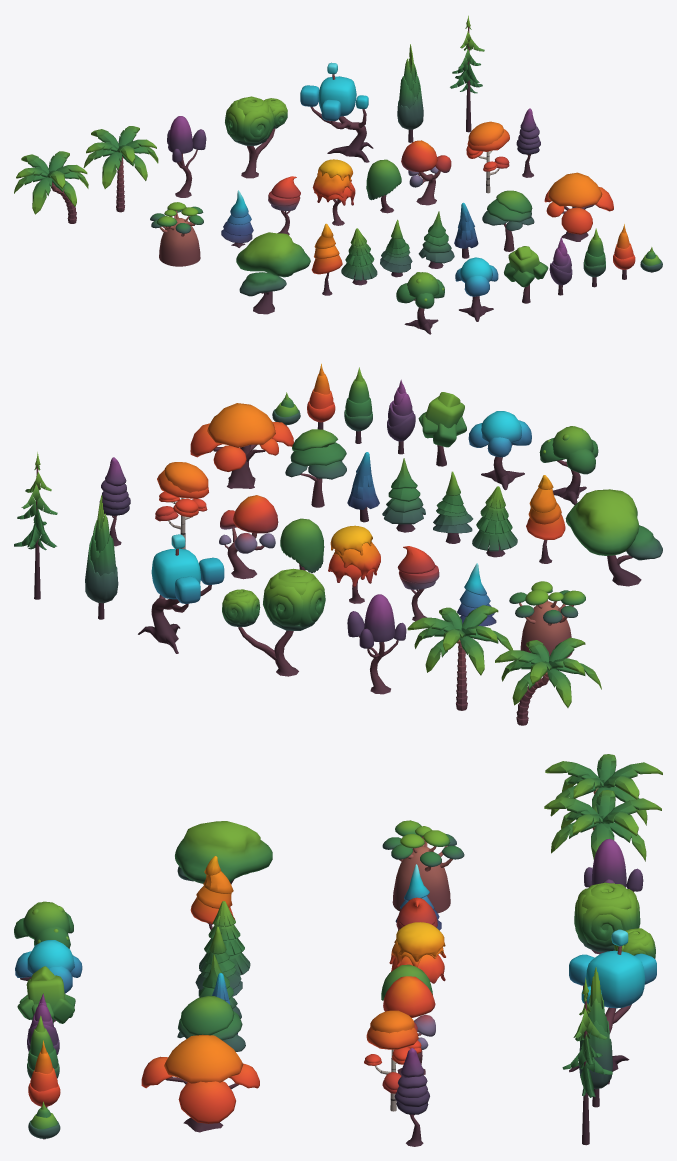
Rendered from stylized-low-poly-trees-pack-01.quads.obj.
3 renders of one model, top to bottom at view 1: azimuth 30°, elevation 25°; view 2: azimuth 150°, elevation 25°; view 3: azimuth 270°, elevation 25°, orthographic. The views are drawn at different scales.
Parts seen in each view (by area): view 1: Tree.026_Base_Material_0, Tree.024_Base_Material_0, Tree.023_Base_Material_0, Tree.006_Base_Material_0, Tree.028_Base_Material_0, Tree.029_Base_Material_0, Tree.027_Base_Material_0, Tree.019_Base_Material_0, Tree.007_Base_Material_0, Tree.017_Base_Material_0, Tree.013_Base_Material_0, Tree.021_Base_Material_0 (+17 smaller); view 2: Tree.023_Base_Material_0, Tree.026_Base_Material_0, Tree.006_Base_Material_0, Tree.024_Base_Material_0, Tree.028_Base_Material_0, Tree.029_Base_Material_0, Tree.027_Base_Material_0, Tree.019_Base_Material_0, Tree.007_Base_Material_0, Tree.021_Base_Material_0, Tree.022_Base_Material_0, Tree.012_Base_Material_0 (+18 smaller); view 3: Tree.006_Base_Material_0, Tree.026_Base_Material_0, Tree.024_Base_Material_0, Tree.023_Base_Material_0, Tree.027_Base_Material_0, Tree.028_Base_Material_0, Tree.029_Base_Material_0, Tree.021_Base_Material_0, Tree.017_Base_Material_0, Tree.007_Base_Material_0, Tree.019_Base_Material_0, Tree.025_Base_Material_0 (+17 smaller).
Boxes of the visible parts, box(x1,y1,x2,y2) form: Tree.026_Base_Material_0: box(236, 232, 310, 314); Tree.024_Base_Material_0: box(300, 62, 373, 162); Tree.023_Base_Material_0: box(225, 96, 287, 178); Tree.006_Base_Material_0: box(544, 172, 613, 241); Tree.028_Base_Material_0: box(83, 126, 158, 212); Tree.029_Base_Material_0: box(14, 151, 88, 223); Tree.027_Base_Material_0: box(150, 202, 203, 266); Tree.019_Base_Material_0: box(401, 140, 451, 205); Tree.007_Base_Material_0: box(482, 190, 534, 251); Tree.017_Base_Material_0: box(312, 159, 355, 225); Tree.013_Base_Material_0: box(396, 272, 444, 334); Tree.021_Base_Material_0: box(466, 121, 509, 193); Tree.023_Base_Material_0: box(222, 568, 325, 676); Tree.026_Base_Material_0: box(565, 489, 662, 586); Tree.006_Base_Material_0: box(190, 403, 293, 488); Tree.024_Base_Material_0: box(138, 534, 224, 653); Tree.028_Base_Material_0: box(407, 605, 512, 710); Tree.029_Base_Material_0: box(495, 637, 601, 725); Tree.027_Base_Material_0: box(509, 581, 585, 658); Tree.019_Base_Material_0: box(219, 495, 278, 579); Tree.007_Base_Material_0: box(285, 429, 346, 507); Tree.021_Base_Material_0: box(155, 462, 208, 549); Tree.022_Base_Material_0: box(347, 594, 406, 694); Tree.012_Base_Material_0: box(468, 411, 531, 490); Tree.006_Base_Material_0: box(141, 1034, 259, 1132); Tree.026_Base_Material_0: box(175, 821, 272, 884); Tree.024_Base_Material_0: box(569, 929, 656, 1084); Tree.023_Base_Material_0: box(574, 882, 655, 958); Tree.027_Base_Material_0: box(382, 820, 464, 913); Tree.028_Base_Material_0: box(544, 790, 661, 861); Tree.029_Base_Material_0: box(545, 754, 662, 825); Tree.021_Base_Material_0: box(364, 1010, 421, 1111); Tree.017_Base_Material_0: box(389, 922, 445, 983); Tree.007_Base_Material_0: box(177, 996, 245, 1051); Tree.019_Base_Material_0: box(383, 976, 435, 1075); Tree.025_Base_Material_0: box(562, 977, 612, 1145).
Size of the model in its own units: 467034 by 115697 by 401562.
